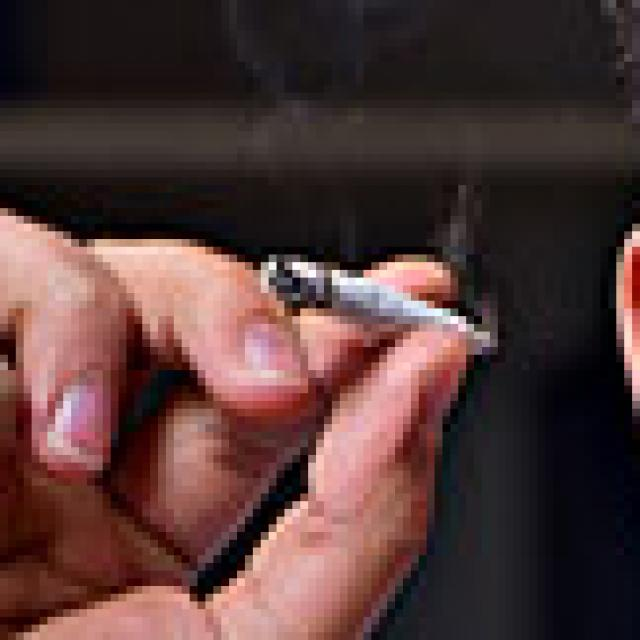cigarette: (259, 249, 492, 367)
